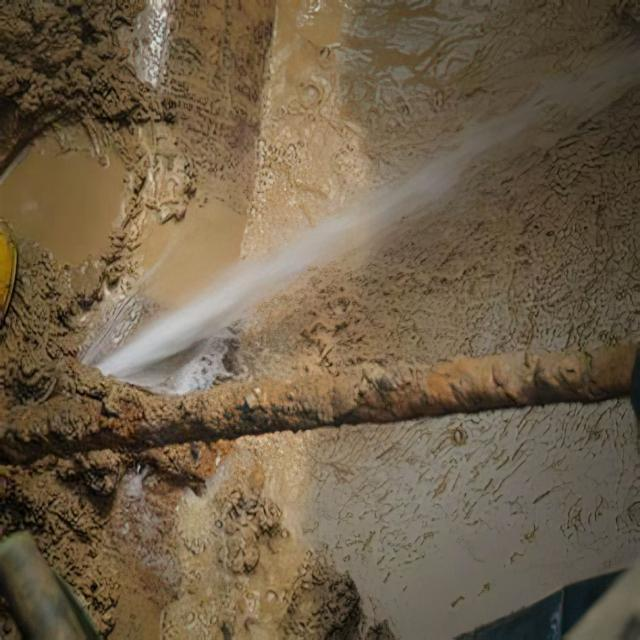pipe burst: (80, 103, 544, 390)
water accumulation: (4, 0, 639, 640)
